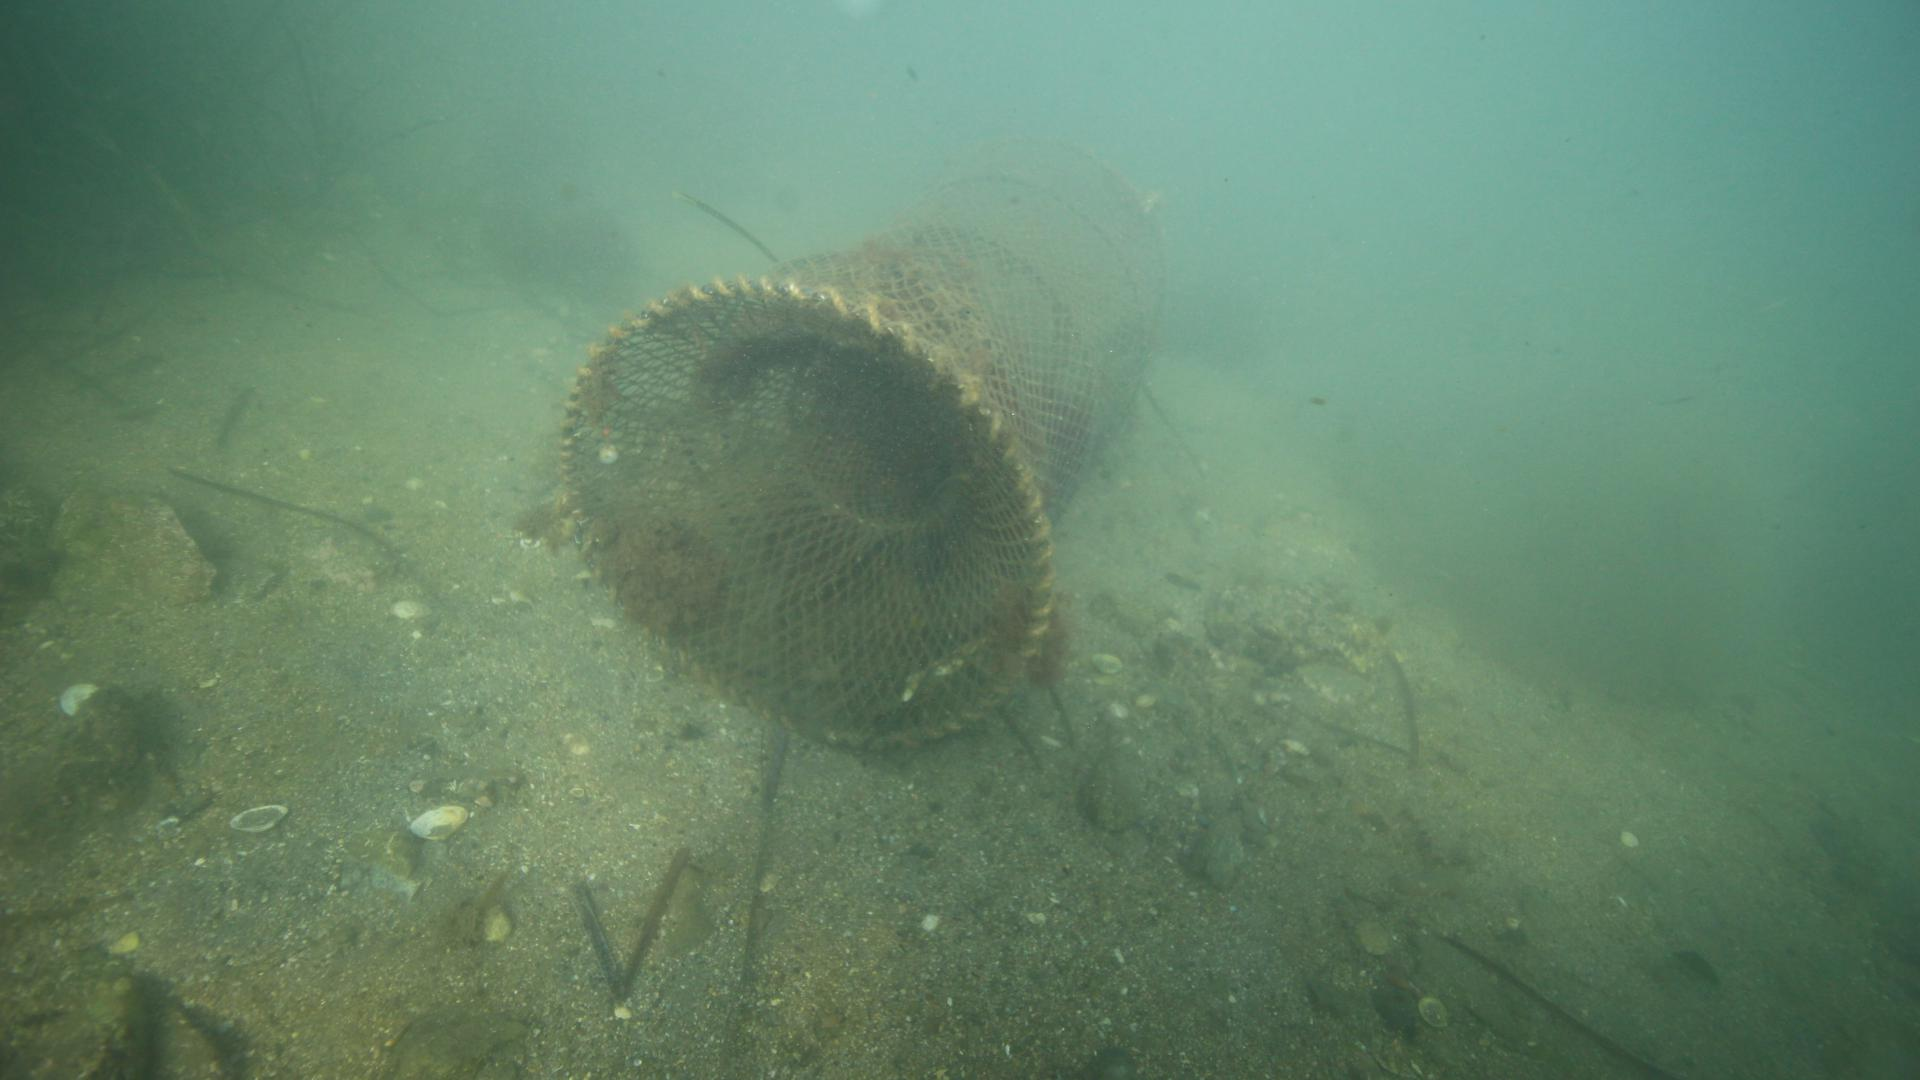spring fish trap: (556, 131, 1164, 752)
